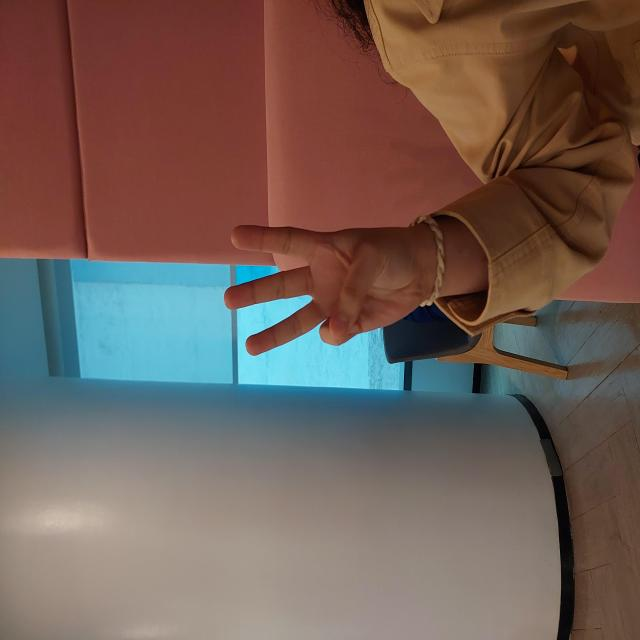W: (278, 218, 420, 437)
